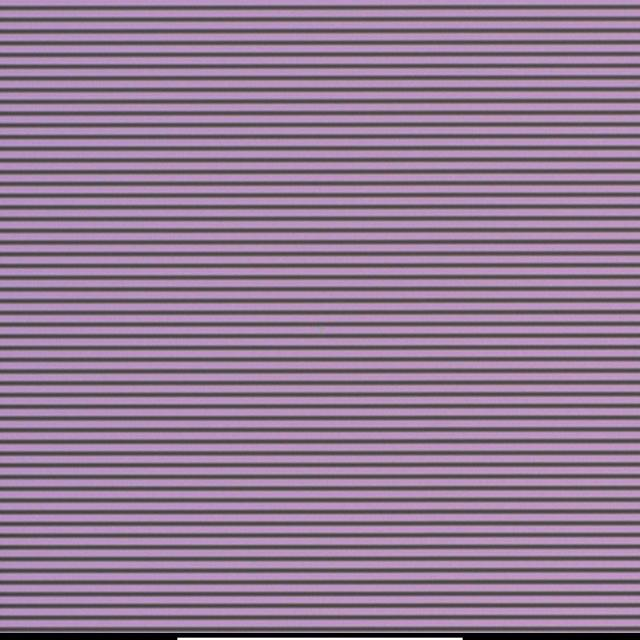nonvisual: (312, 322, 328, 340)
